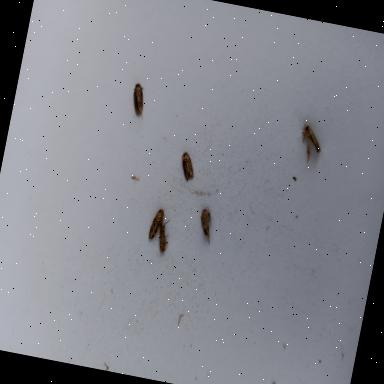pbw: (296, 125, 326, 164), (128, 82, 148, 122), (195, 207, 216, 244), (146, 206, 166, 242), (154, 218, 173, 254), (177, 150, 198, 182)
